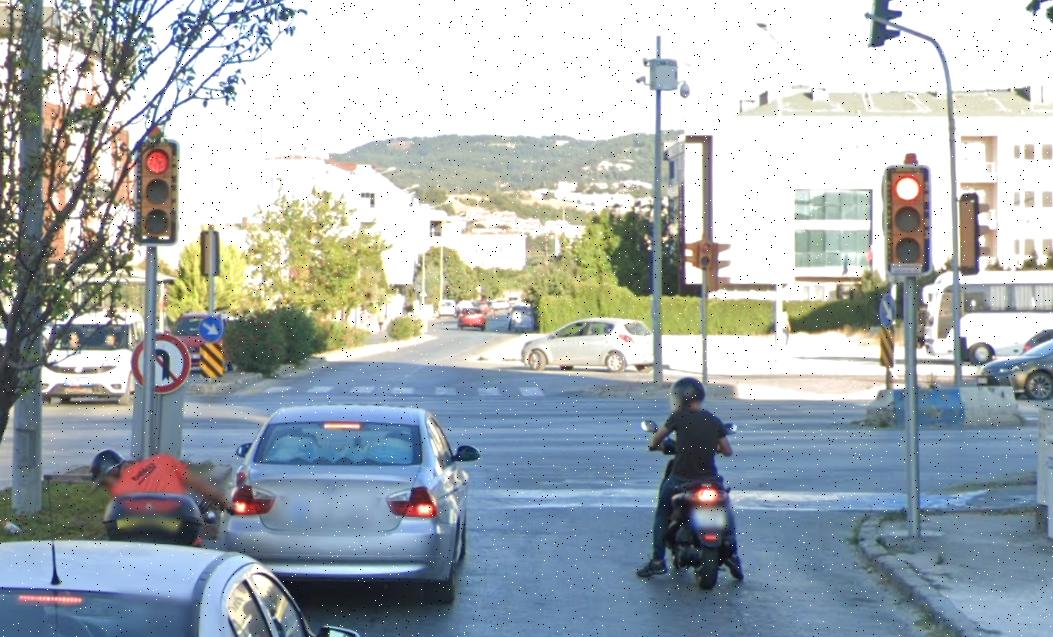redlight: (883, 164, 927, 275), (138, 138, 176, 240)
